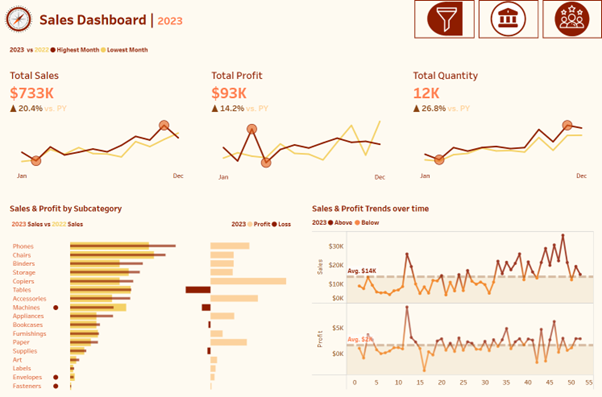

This screenshot's page, from the dashboard's own definition file:
{"tool":"tableau","page":{"name":"Sales Dashboard","canvas":[1200,800],"ordinal":1},"visuals":[{"type":"image","param":"C:/Users/roxan/Desktop/Personal/Learning & Development/2. IHU DATA ANALYTICS IN ","box":[0,0,76,84]},{"type":"text","box":[76,0,744,84]},{"type":"dashboard-object","box":[820,0,127,84]},{"type":"dashboard-object","box":[947,0,127,84]},{"type":"dashboard-object","box":[1074,0,126,84]},{"type":"blank","box":[986,13,200,41]},{"type":"text","box":[986,54,200,45]},{"type":"worksheet","title":"Legend KPI","mark":"Automatic","box":[0,84,1200,43]},{"type":"parameter","param":"[Parameters].[Order Date (Years) Parameter]","box":[986,99,200,59]},{"type":"worksheet","title":"KPI Sales","mark":"Automatic","rows":["Calculation_1280443795509252"],"cols":["Order Date"],"box":[0,127,400,258]},{"type":"worksheet","title":"KPI profit","mark":"Automatic","rows":["Calculation_0946742039678986"],"cols":["Order Date"],"box":[400,127,400,258]},{"type":"worksheet","title":"KPI qty","mark":"Automatic","rows":["Calculation_0946742040051723"],"cols":["Order Date"],"box":[800,127,400,258]},{"type":"text","box":[986,158,200,31]},{"type":"filter","title":"KPI Sales","param":"[federated.02gtvv01ky5os819cikn412mkq9s].[none:Category:nk]","box":[986,189,200,64]},{"type":"filter","title":"KPI Sales","param":"[federated.02gtvv01ky5os819cikn412mkq9s].[none:Sub-Category:nk]","box":[986,253,200,64]},{"type":"blank","box":[986,317,200,42]},{"type":"text","box":[986,359,200,36]},{"type":"filter","title":"KPI Sales","param":"[federated.02gtvv01ky5os819cikn412mkq9s].[none:Region:nk]","box":[986,395,200,64]},{"type":"text","box":[17,402,566,35]},{"type":"text","box":[617,402,566,35]},{"type":"worksheet","title":"Legend Subcategory Chart","mark":"Automatic","box":[17,437,283,32]},{"type":"text","box":[300,437,283,32]},{"type":"text","box":[617,437,566,29]},{"type":"filter","title":"KPI Sales","param":"[federated.02gtvv01ky5os819cikn412mkq9s].[none:State:nk]","box":[986,459,200,64]},{"type":"worksheet","title":"Weekly Trends","mark":"Line","rows":["Calculation_1280443779207168","Calculation_0946742037929986"],"cols":["Order Date"],"box":[617,466,566,317]},{"type":"worksheet","title":"Subcategory Comparison","mark":"Bar","rows":["Sub-Category","Calculation_0946742061256722"],"cols":["CY Sales (copy)_1280443781074945","Calculation_1280443779207168","Calculation_0946742037929986"],"box":[17,469,566,313.9]},{"type":"filter","title":"KPI Sales","param":"[federated.02gtvv01ky5os819cikn412mkq9s].[none:City:nk]","box":[986,523,200,64]}]}

Visuals, with their boxes in screenshot pixels (x1, y1, x2, y2), scaled from the page's 1200x800 canvas onto the 602x397 screenshot:
image: (0, 0, 38, 42)
text: (38, 0, 411, 42)
dashboard-object: (411, 0, 475, 42)
dashboard-object: (475, 0, 539, 42)
dashboard-object: (539, 0, 601, 42)
blank: (495, 6, 595, 27)
text: (495, 27, 595, 49)
"Legend KPI" worksheet: (0, 42, 601, 63)
parameter: (495, 49, 595, 78)
"KPI Sales" worksheet: (0, 63, 201, 191)
"KPI profit" worksheet: (201, 63, 401, 191)
"KPI qty" worksheet: (401, 63, 601, 191)
text: (495, 78, 595, 94)
"KPI Sales" filter: (495, 94, 595, 126)
"KPI Sales" filter: (495, 126, 595, 157)
blank: (495, 157, 595, 178)
text: (495, 178, 595, 196)
"KPI Sales" filter: (495, 196, 595, 228)
text: (9, 199, 292, 217)
text: (310, 199, 593, 217)
"Legend Subcategory Chart" worksheet: (9, 217, 150, 233)
text: (150, 217, 292, 233)
text: (310, 217, 593, 231)
"KPI Sales" filter: (495, 228, 595, 260)
"Weekly Trends" worksheet (Line marks): (310, 231, 593, 389)
"Subcategory Comparison" worksheet (Bar marks): (9, 233, 292, 389)
"KPI Sales" filter: (495, 260, 595, 291)
